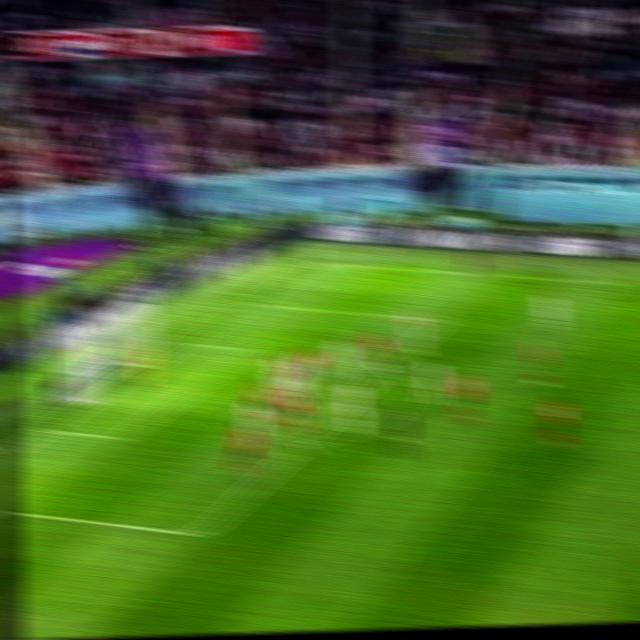bigarea_bottom_inner: (183, 517, 217, 551)
bigarea_top_inner: (428, 308, 456, 330)
bigarea_top_outter: (237, 293, 264, 314)
bottom_arc_area_intersection: (286, 430, 317, 457)
corner: (301, 256, 329, 272)
smallarea_bottom_inner: (106, 423, 137, 452)
smallarea_bottom_outter: (30, 415, 59, 443)
smallarea_top_inner: (233, 336, 264, 363)
smallarea_top_outter: (173, 332, 200, 353)
top_arc_area_intersection: (369, 358, 398, 383)
